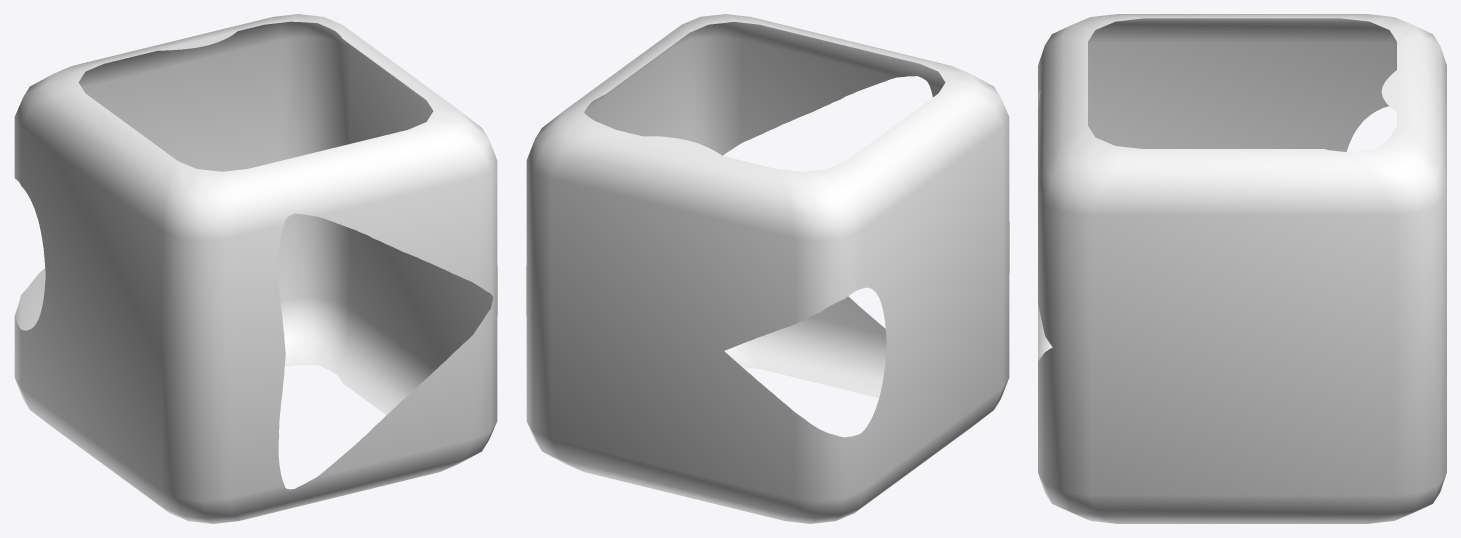
The model's file is PumpkinCube.fbx.
3 views of the same model, side by side, from view 1: azimuth 30°, elevation 25°; view 2: azimuth 150°, elevation 25°; view 3: azimuth 270°, elevation 25° (orthographic). The views are drawn at different scales.
Parts seen in each view (by area): view 1: PumpkinCube; view 2: PumpkinCube; view 3: PumpkinCube.
Boxes of the visible parts, bbox=[...] form: PumpkinCube: bbox=[14, 14, 497, 523]; PumpkinCube: bbox=[526, 14, 1009, 523]; PumpkinCube: bbox=[1038, 14, 1446, 523].
Size of the model in its own units: 68.83 by 83.36 by 68.83.
